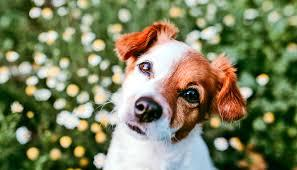Dog: (110, 21, 243, 144)
